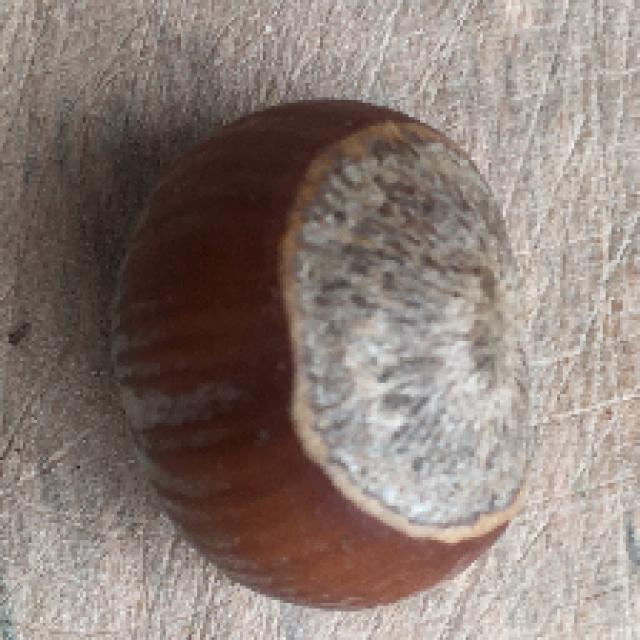qualityHazelnut: (103, 92, 537, 618)
